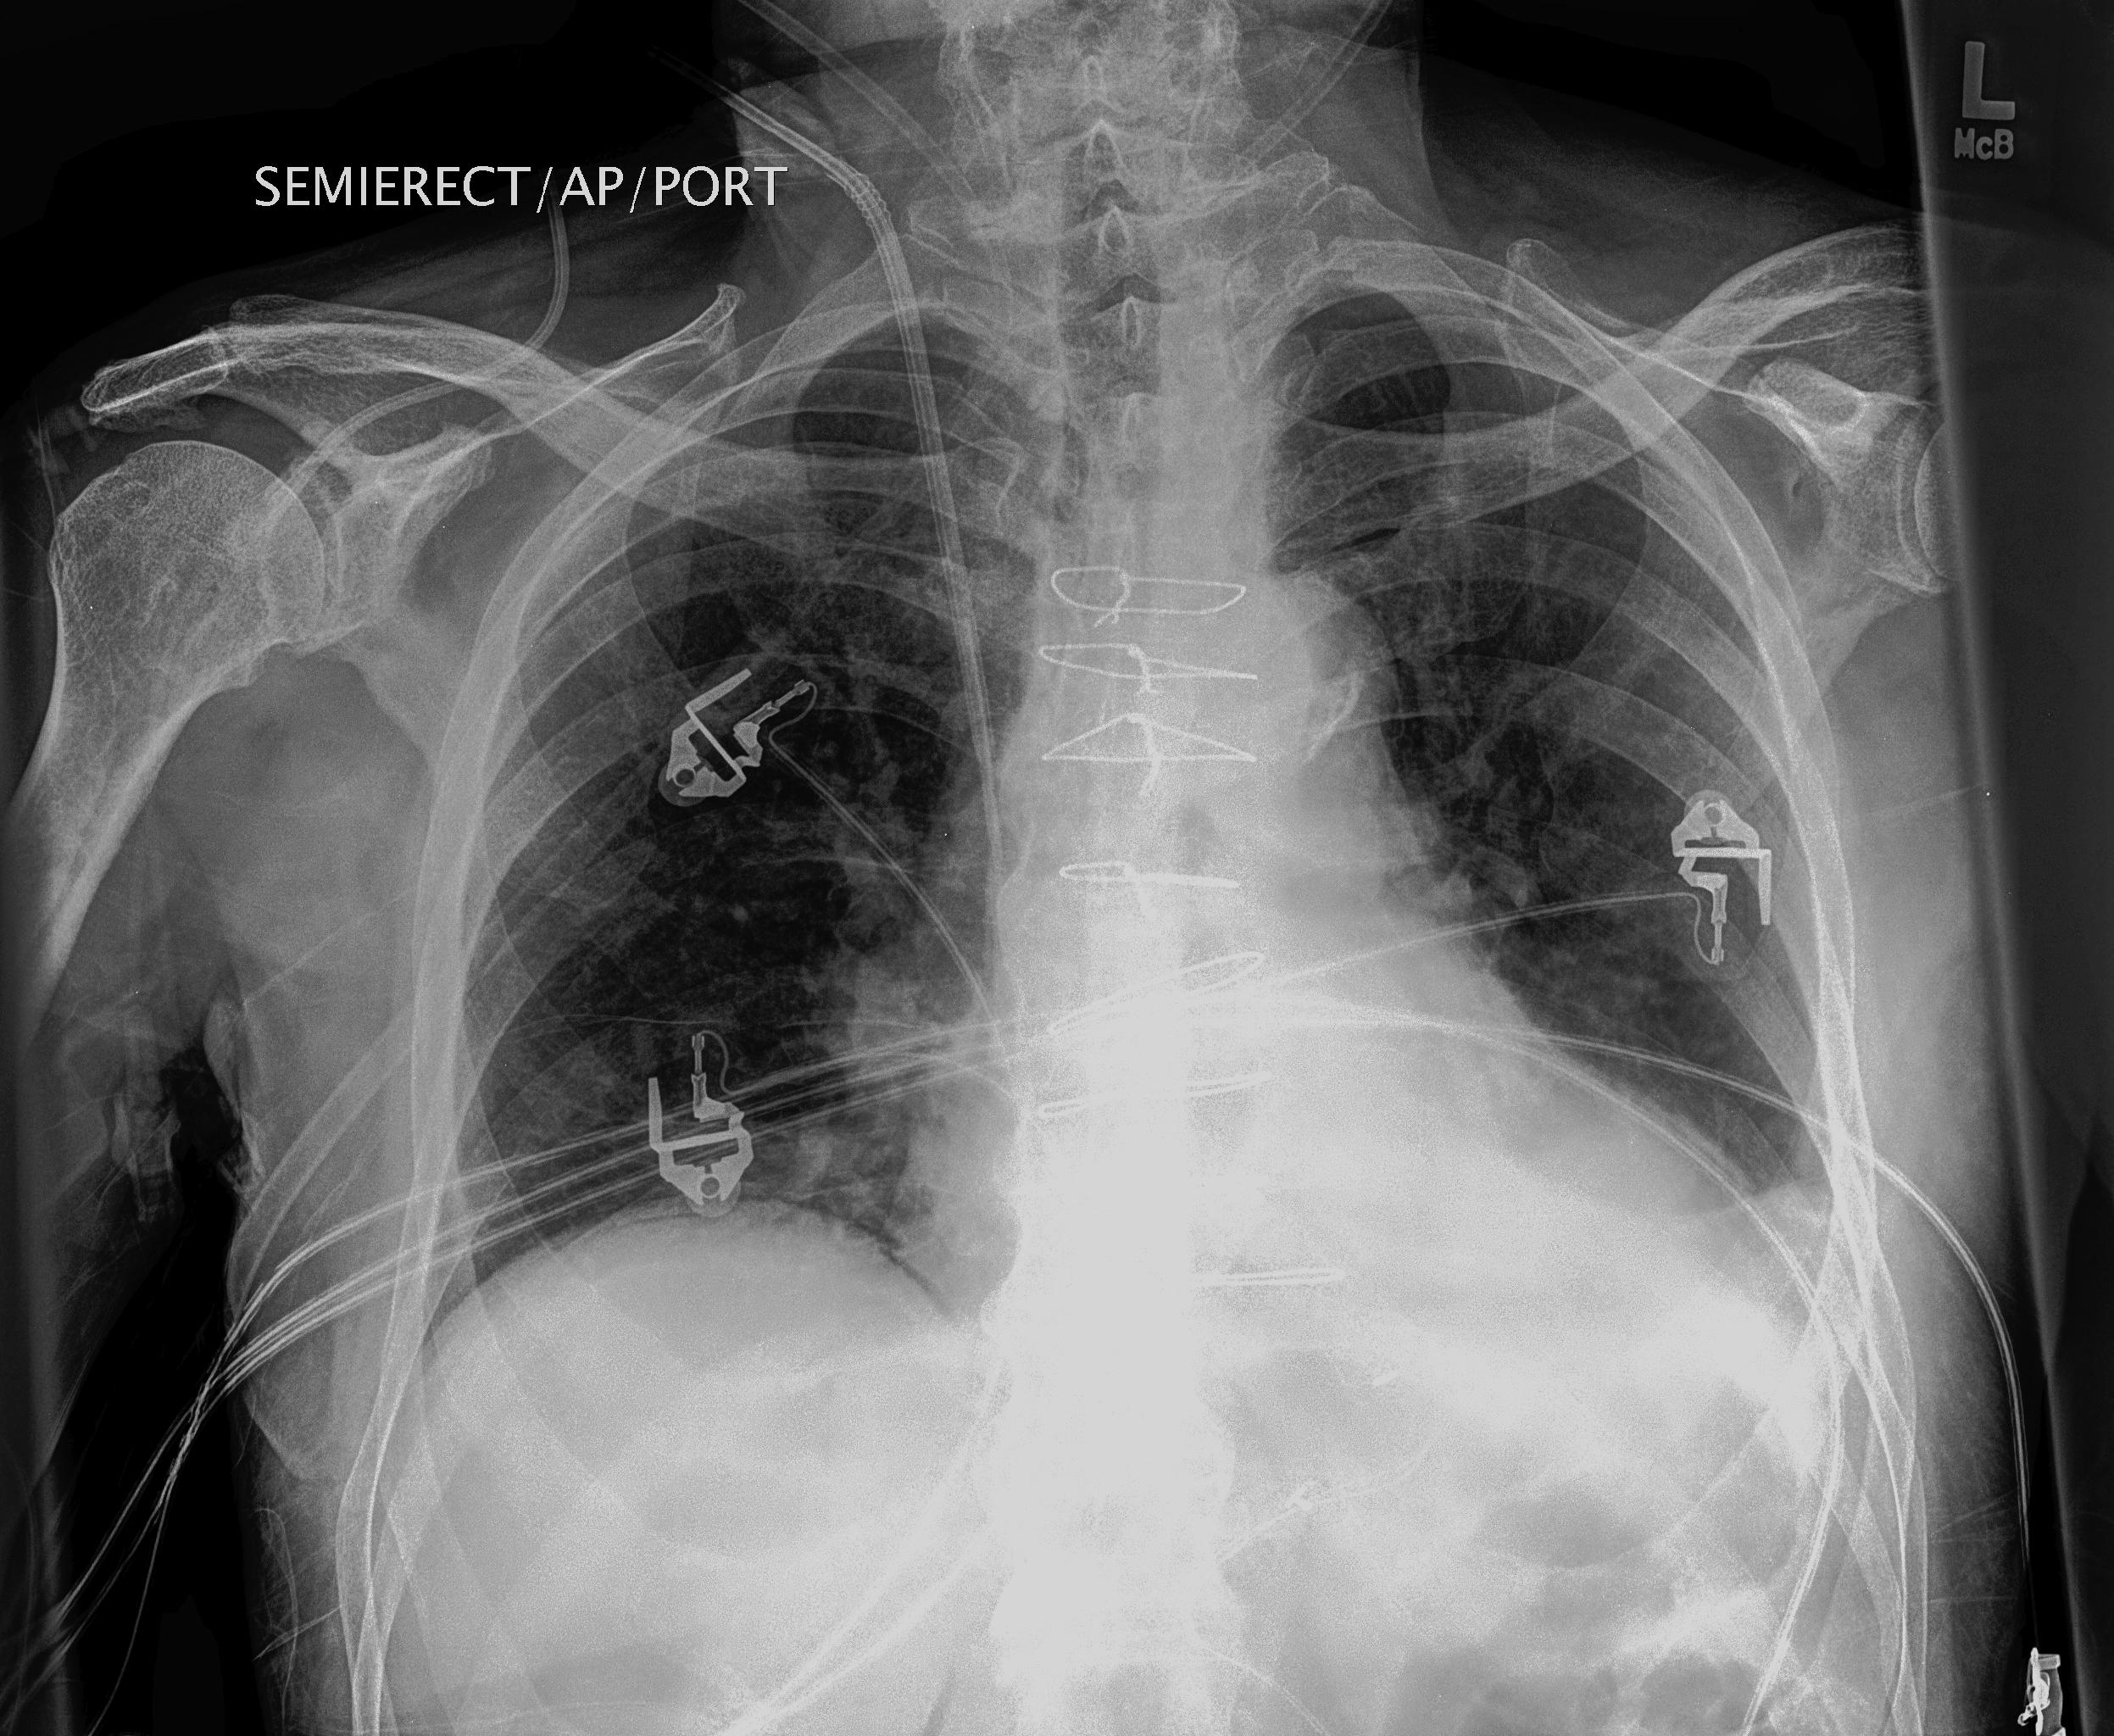Pleural Effusion: (1528, 1159, 1912, 1487)
